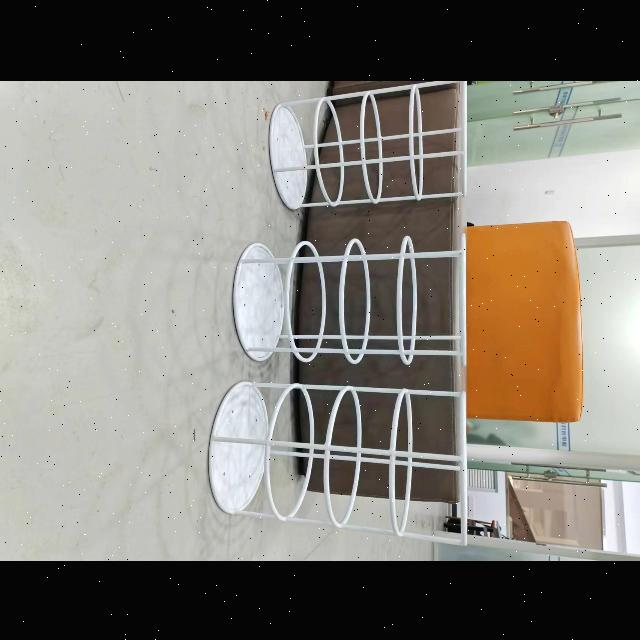S: (209, 381, 468, 545), (234, 235, 466, 364), (269, 80, 466, 209)
